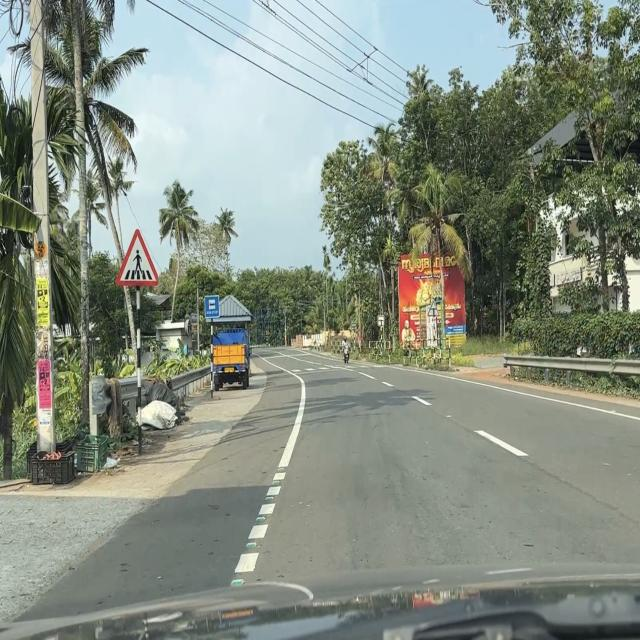INFORMATION: (204, 294, 220, 319)
PEDESTRIAN_CROSSING: (115, 227, 162, 288)
